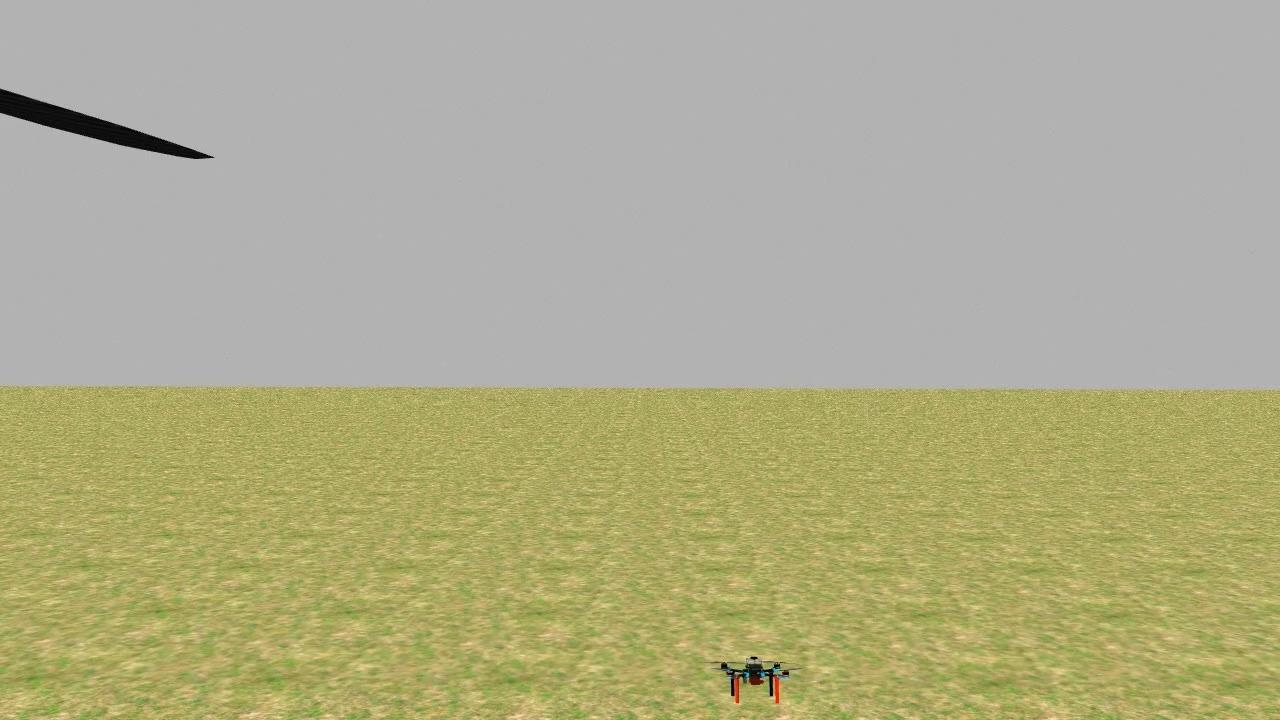UAV: (698, 637, 813, 712)
